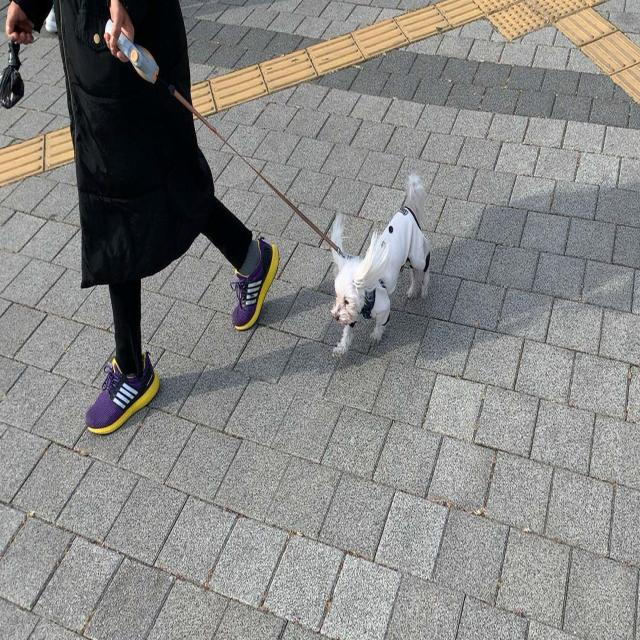Leashed_Dog: (129, 22, 433, 358)
